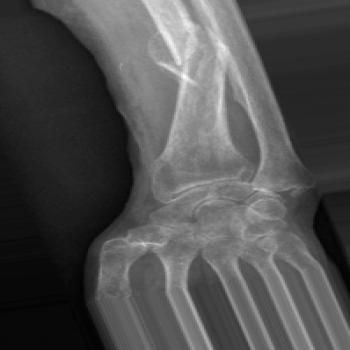Fracture: (147, 22, 234, 78)
